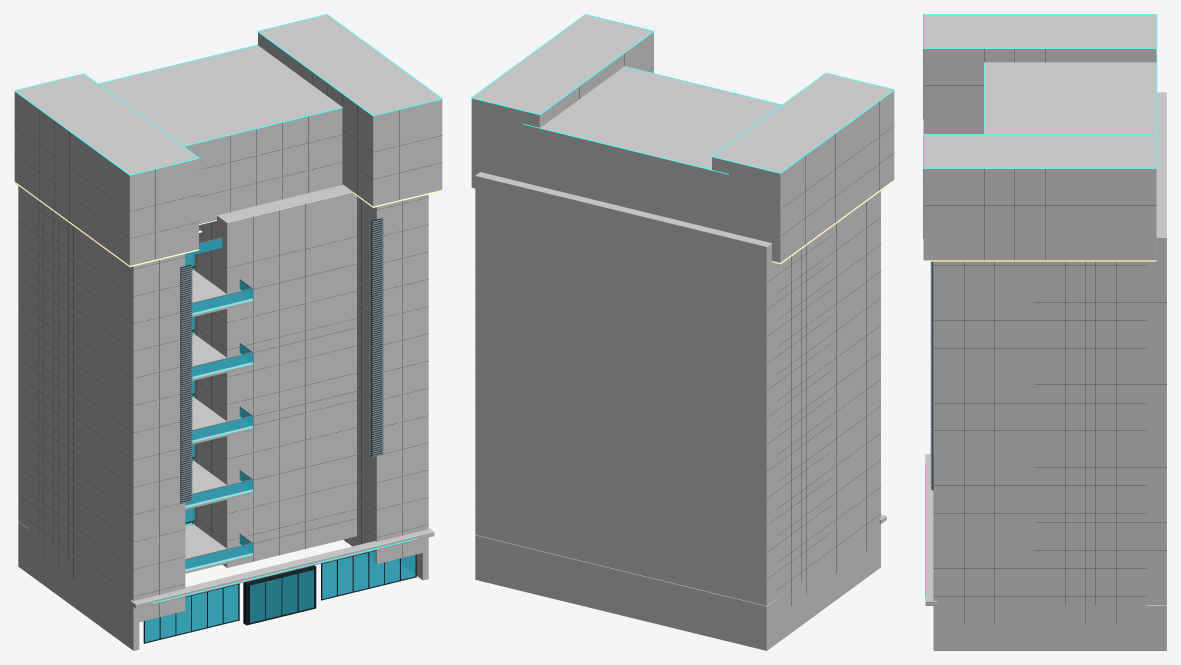
Rendered from building_08.glb.
3 renders of one model, left to right at view 1: azimuth 30°, elevation 25°; view 2: azimuth 150°, elevation 25°; view 3: azimuth 270°, elevation 25°, orthographic. The views are drawn at different scales.
Parts seen in each view (by area): view 1: Twin flank towers, Front central monolith, Twin cantilever crowns, High skybridge crown, Rear megablock spine, Facade panel seams.007, Window glazing.007, Ground level columns.005, Vent louvers.005, Floor slabs.004, Vent backing.005, Balcony glass.003 (+6 smaller); view 2: Rear megablock spine, Twin cantilever crowns, High skybridge crown, Twin flank towers, Ground level rear wall.005, Ground level columns.005, Facade panel seams.007, Cyan roof edges.007; view 3: Rear megablock spine, Twin cantilever crowns, Twin flank towers, High skybridge crown, Ground level columns.005, Facade panel seams.007, Cyan roof edges.007, Shop canopy.005, Vent louvers.005, Crown underlighting, Vent backing.005.
Part boxes in pixels (x1=…): Twin flank towers: x1=28, y1=194, x2=428, y2=622; Front central monolith: x1=192, y1=185, x2=356, y2=567; Twin cantilever crowns: x1=14, y1=14, x2=442, y2=265; High skybridge crown: x1=99, y1=45, x2=342, y2=223; Rear megablock spine: x1=18, y1=186, x2=191, y2=566; Facade panel seams.007: x1=14, y1=72, x2=441, y2=617; Window glazing.007: x1=145, y1=254, x2=415, y2=642; Ground level columns.005: x1=18, y1=522, x2=428, y2=650; Vent louvers.005: x1=180, y1=219, x2=383, y2=503; Floor slabs.004: x1=185, y1=270, x2=252, y2=573; Vent backing.005: x1=180, y1=218, x2=382, y2=503; Balcony glass.003: x1=185, y1=238, x2=252, y2=569; Rear megablock spine: x1=475, y1=172, x2=831, y2=605; Twin cantilever crowns: x1=471, y1=14, x2=894, y2=262; High skybridge crown: x1=523, y1=66, x2=780, y2=229; Twin flank towers: x1=777, y1=191, x2=880, y2=598; Ground level rear wall.005: x1=475, y1=535, x2=768, y2=650; Ground level columns.005: x1=475, y1=524, x2=880, y2=650; Facade panel seams.007: x1=579, y1=53, x2=893, y2=605; Cyan roof edges.007: x1=471, y1=14, x2=894, y2=174; Rear megablock spine: x1=1035, y1=92, x2=1166, y2=604; Twin cantilever crowns: x1=923, y1=14, x2=1156, y2=260; Twin flank towers: x1=933, y1=261, x2=1146, y2=605; High skybridge crown: x1=984, y1=62, x2=1156, y2=133; Ground level columns.005: x1=933, y1=605, x2=1166, y2=650; Facade panel seams.007: x1=923, y1=49, x2=1166, y2=623; Cyan roof edges.007: x1=923, y1=14, x2=1157, y2=168; Shop canopy.005: x1=925, y1=454, x2=936, y2=605; Vent louvers.005: x1=930, y1=261, x2=932, y2=489; Crown underlighting: x1=923, y1=260, x2=1156, y2=261; Vent backing.005: x1=932, y1=261, x2=933, y2=489.
Size of the model in its own units: 36.06 by 53.23 by 24.05.
